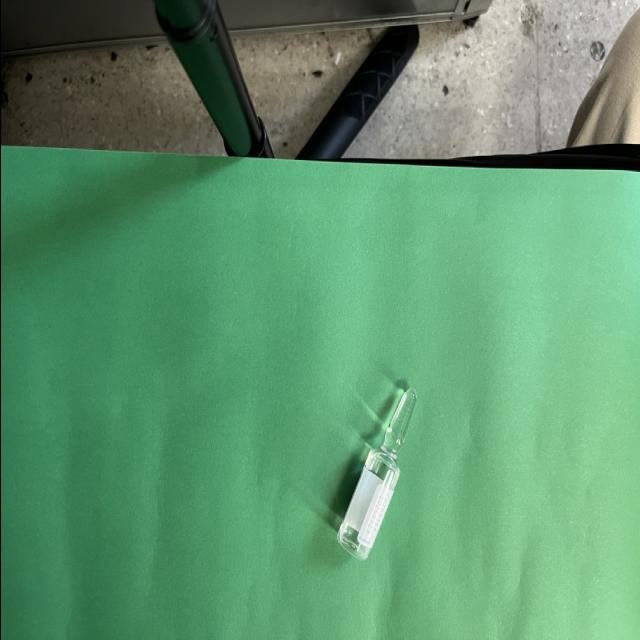Ampoules: (336, 388, 416, 559)
